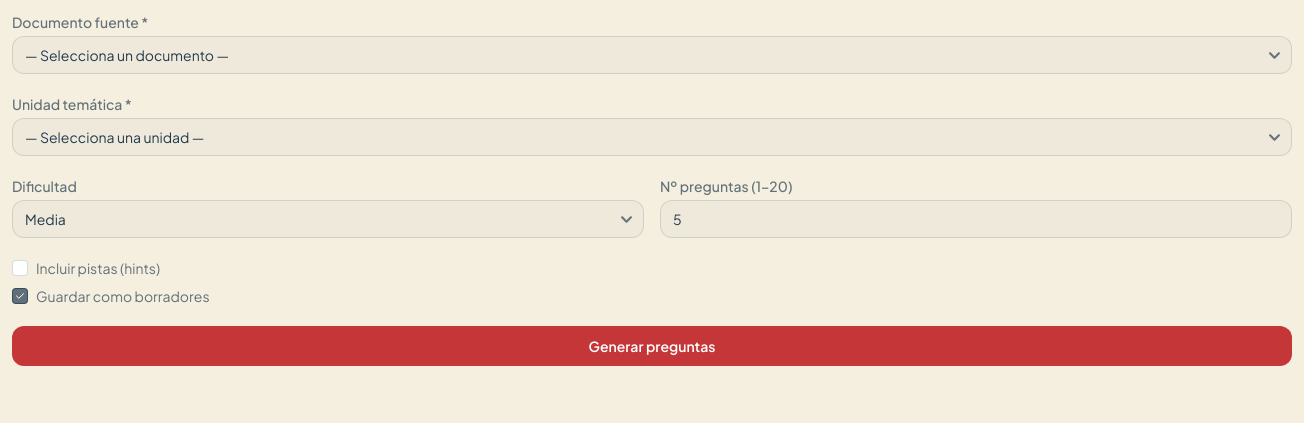
Test: QuizGenerateForm › validates missing source and unit
Click the button "Generar preguntas" at [652, 346], box top-left (12, 326), bottom-right (1292, 366)
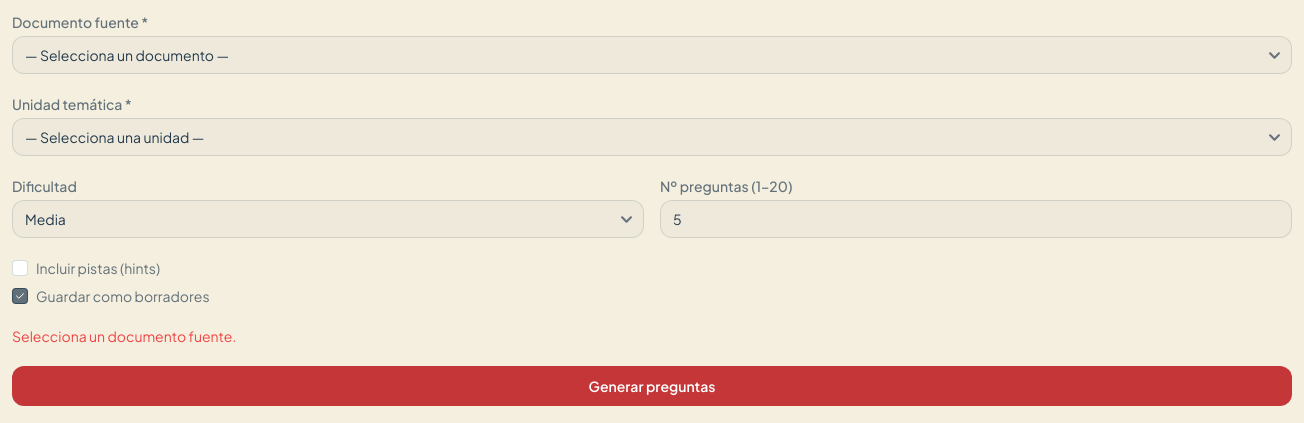
Check: the message shows "Selecciona un documento", box top-left (12, 327), bottom-right (236, 345)
